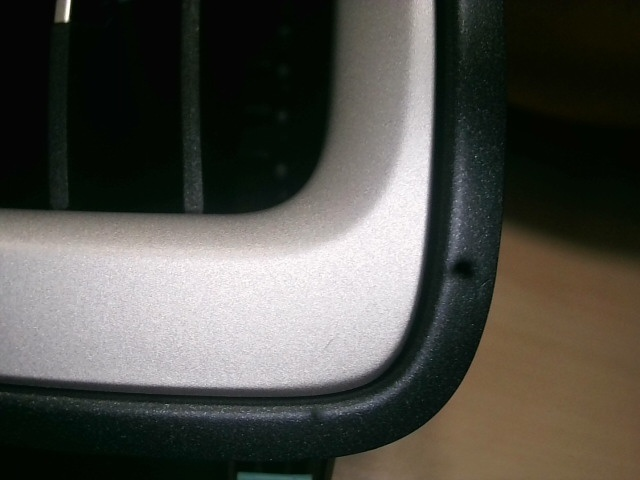NG: (317, 329, 342, 362), (474, 272, 495, 299)
